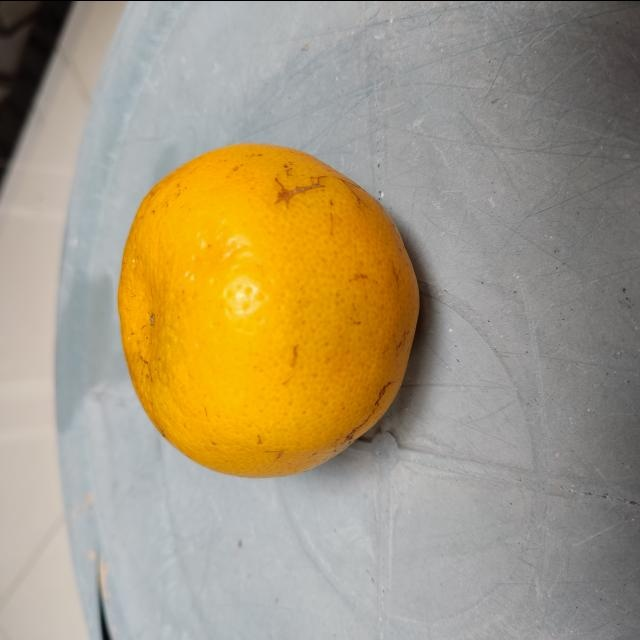agrume: (113, 139, 427, 483)
